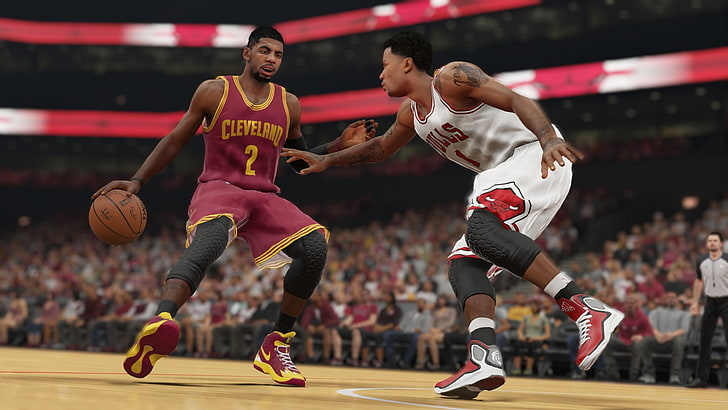b_ball: (85, 189, 153, 244)
face: (229, 27, 292, 92), (375, 36, 434, 99)
player: (332, 23, 633, 408), (71, 15, 328, 390)
